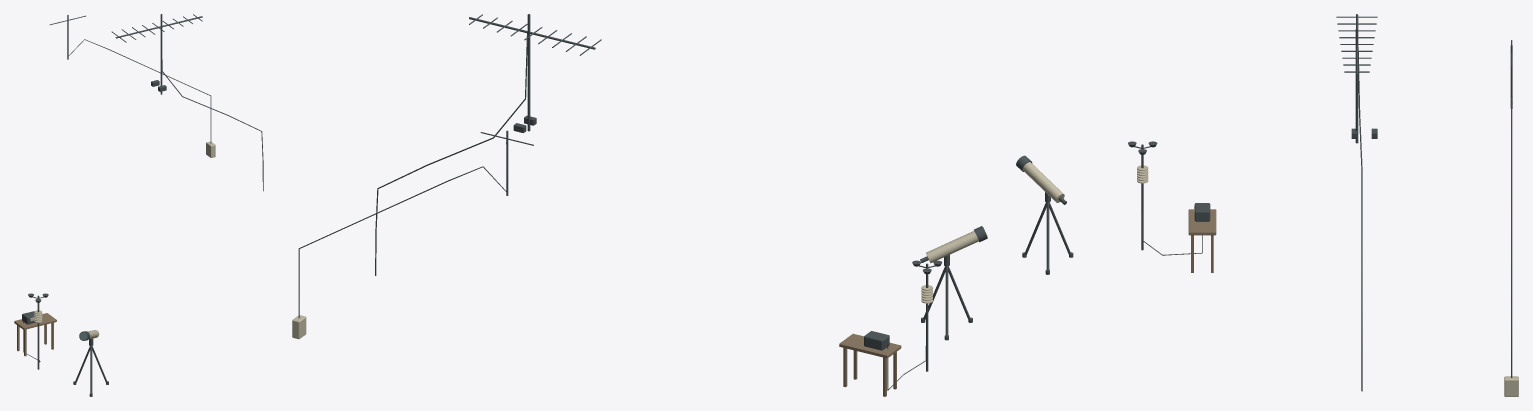
The model's file is SM_ConspiracyHouse_Equipment.fbx.
The picture shows the model from 3 angles, left to right: view 1: azimuth 30°, elevation 25°; view 2: azimuth 150°, elevation 25°; view 3: azimuth 270°, elevation 25°; orthographic projection. The views are drawn at different scales.
Parts seen in each view (by area): view 1: EXPORT_Secondary_Coax, EXPORT_Instrument_Table, EXPORT_Coax_To_Workshop; view 2: EXPORT_Telescope_OpticalTube, EXPORT_Instrument_Table, EXPORT_Coax_To_Workshop; view 3: EXPORT_Coax_To_Workshop, EXPORT_Secondary_Coax, EXPORT_Instrument_Table, EXPORT_Telescope_OpticalTube.
Part boxes in pixels (x1,y1,x2,y2): EXPORT_Secondary_Coax: (69, 39, 211, 143); EXPORT_Instrument_Table: (14, 313, 56, 329); EXPORT_Coax_To_Workshop: (162, 60, 263, 191); EXPORT_Telescope_OpticalTube: (926, 231, 978, 263); EXPORT_Instrument_Table: (839, 333, 901, 358); EXPORT_Coax_To_Workshop: (375, 33, 527, 275); EXPORT_Coax_To_Workshop: (1358, 47, 1362, 391); EXPORT_Secondary_Coax: (1511, 57, 1512, 377); EXPORT_Instrument_Table: (1188, 209, 1216, 235); EXPORT_Telescope_OpticalTube: (1022, 162, 1064, 202).
Bounding box in the file's own units: 1026 × 1008 × 795.
